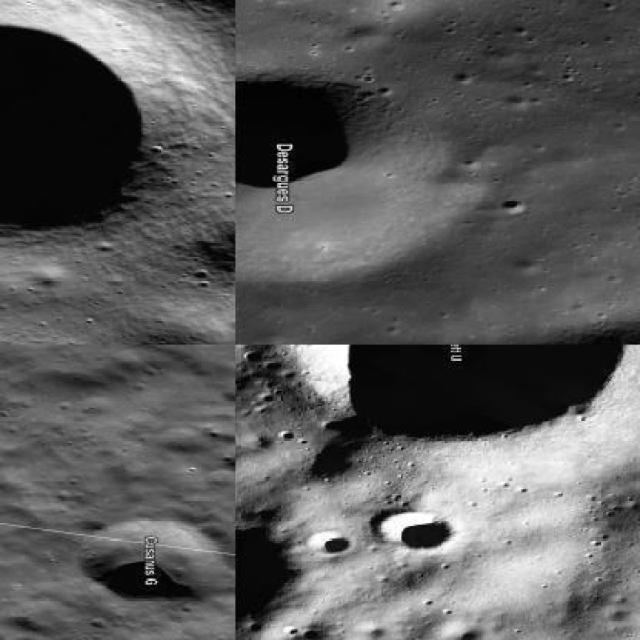crater: (235, 75, 480, 283), (0, 8, 157, 249), (286, 345, 629, 446), (77, 522, 225, 602), (374, 511, 455, 551), (308, 532, 350, 557)
